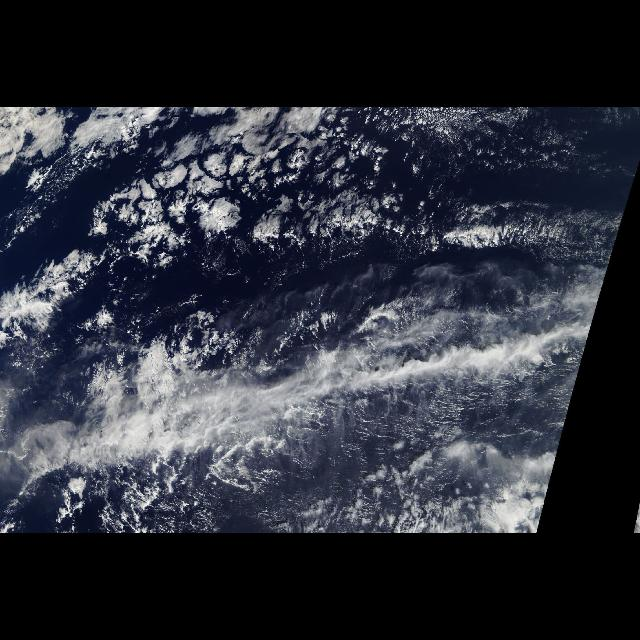Fish: (23, 252, 595, 500)
Flower: (79, 136, 402, 248)
Sugar: (356, 108, 640, 205)
